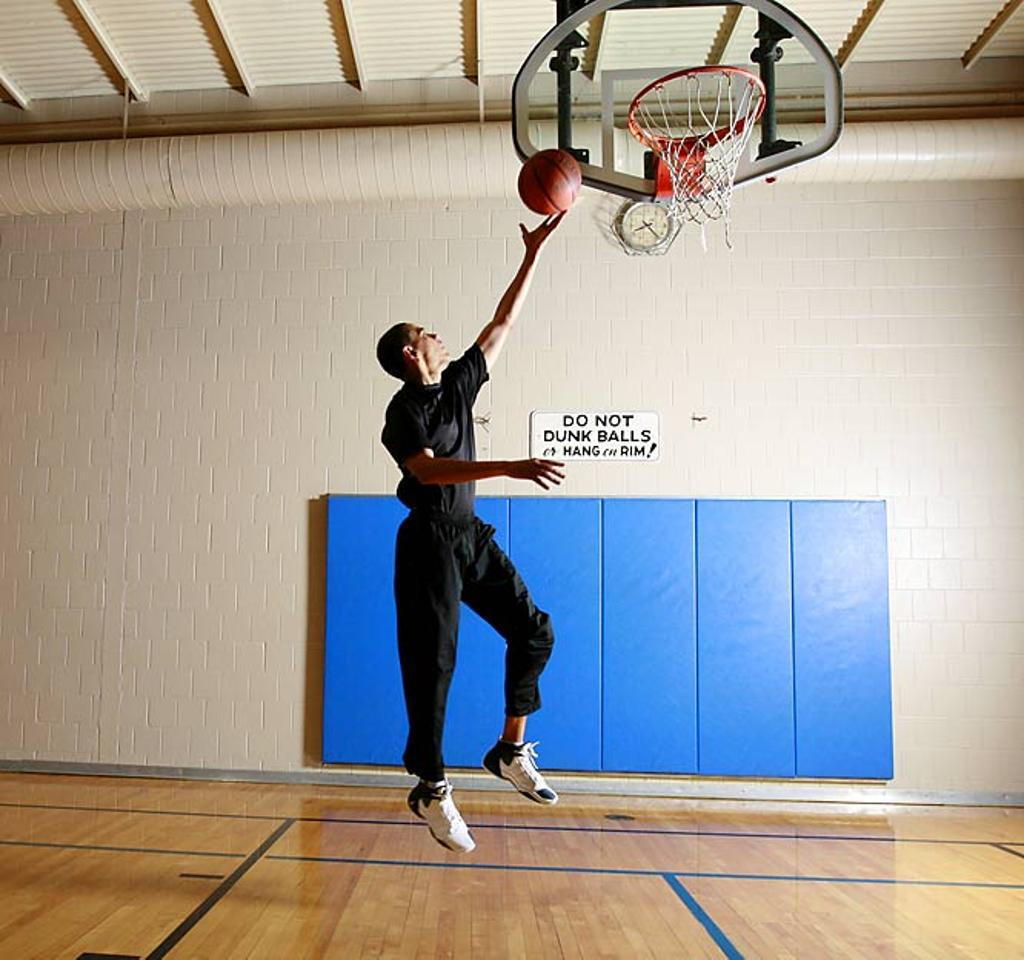face: (411, 325, 451, 370)
